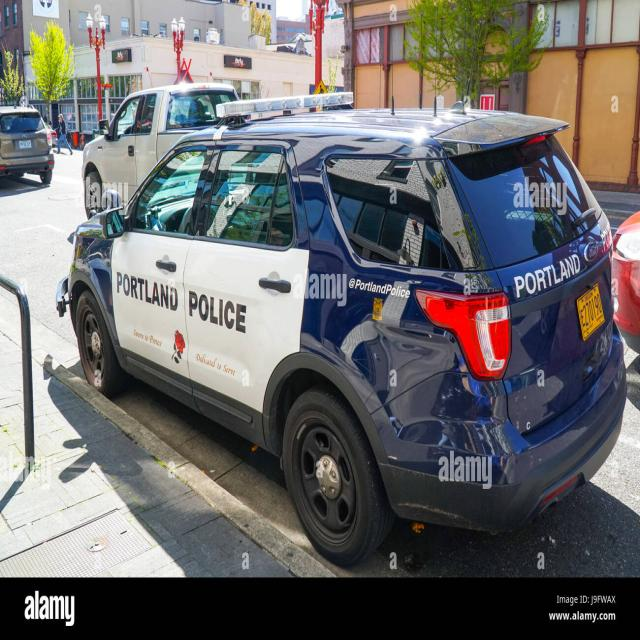cop: (59, 94, 627, 567)
